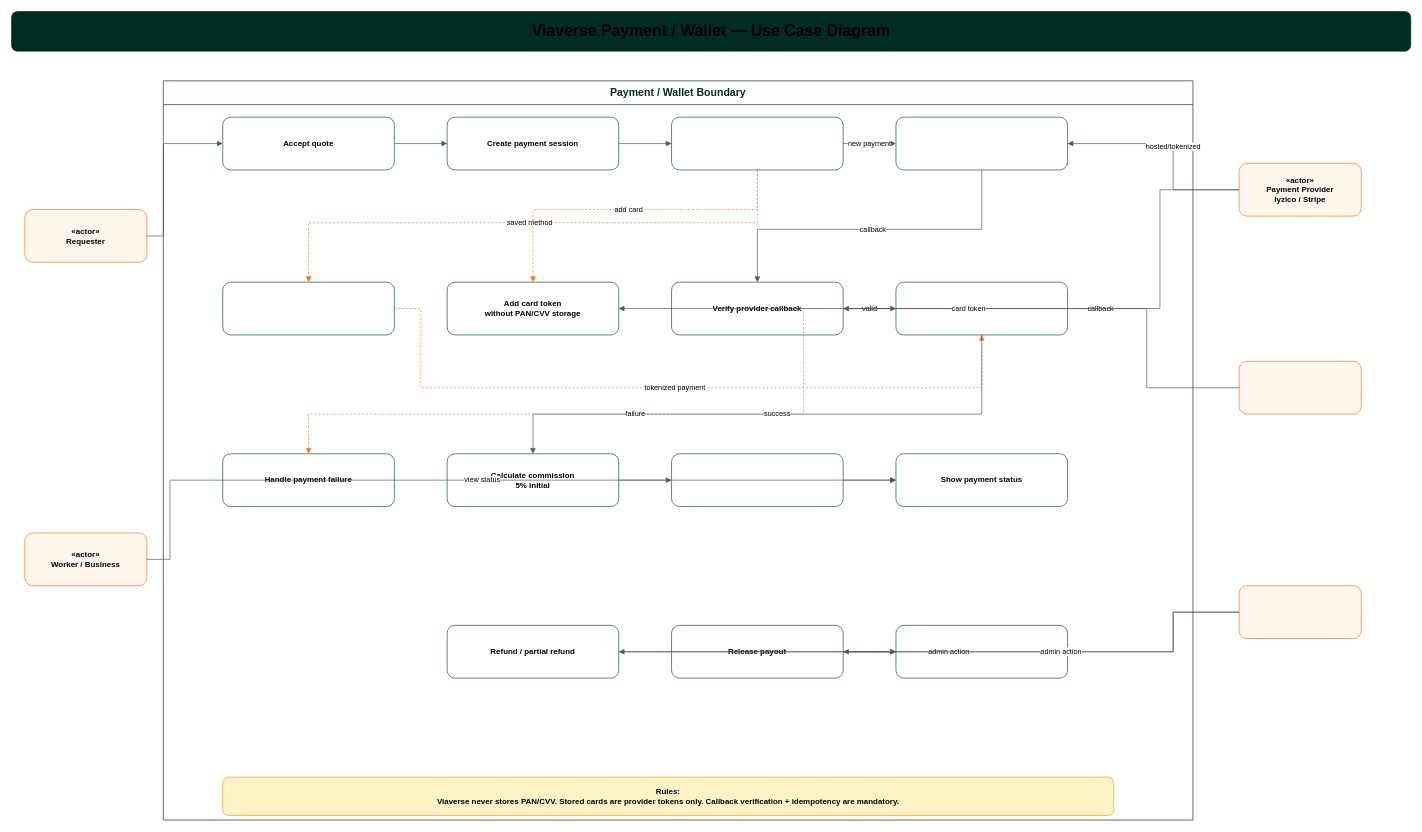
Image size: 1422x832. Some labels were removed from this diagram. Each missing label, with the box of its shape:
Audit payment admin action: (895, 625, 1068, 678)
Authorize / capture payment: (895, 281, 1068, 335)
Choose payment method: (671, 116, 843, 170)
Hold payout until completion: (671, 453, 843, 507)
Open provider checkout: (895, 116, 1068, 170)
Pay with saved card tokenized: (222, 281, 394, 335)
«actor» Masterpass / Wallet: (1238, 361, 1361, 414)
«actor» Payment Admin: (1238, 585, 1361, 639)
